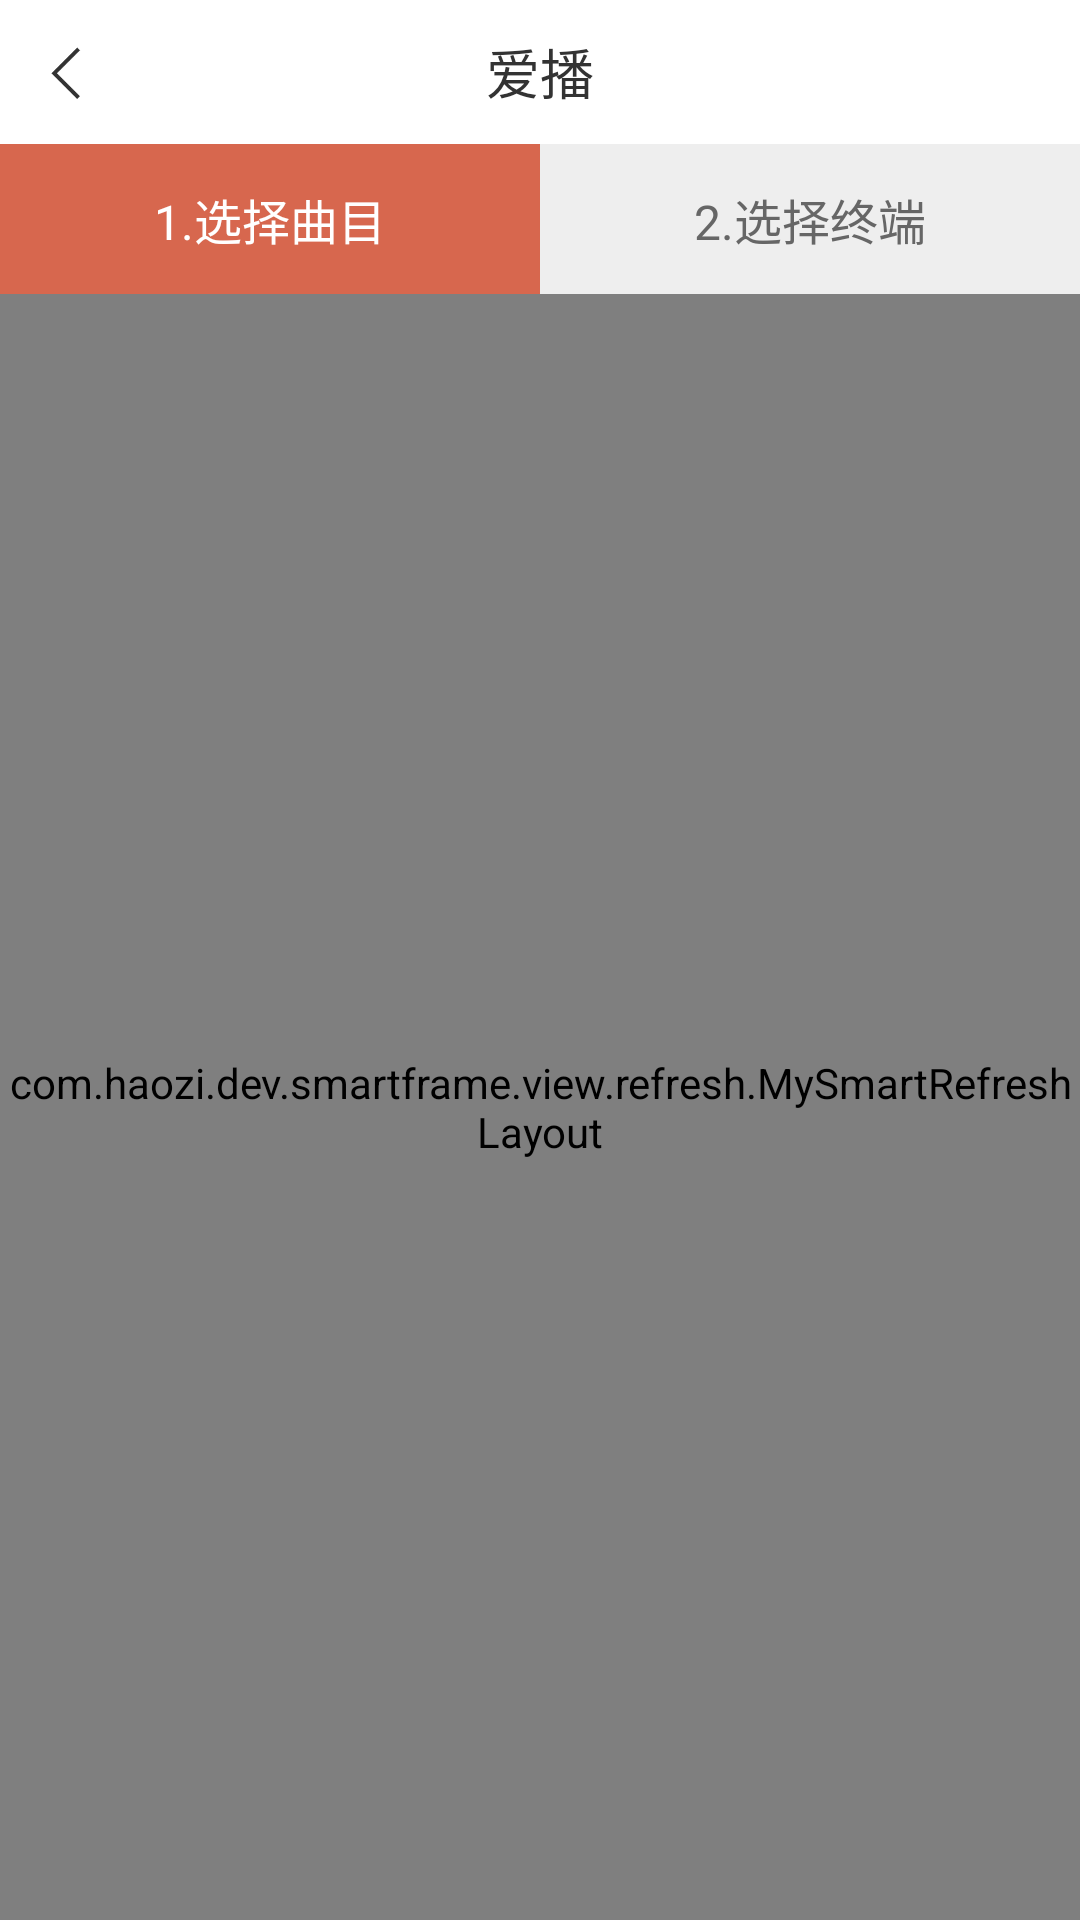

Icons on this 1080×1920 Android screen, each with its box as (left=x1, top=y1, right=x2, bottom=y2):
back: (left=51, top=47, right=80, bottom=99)
